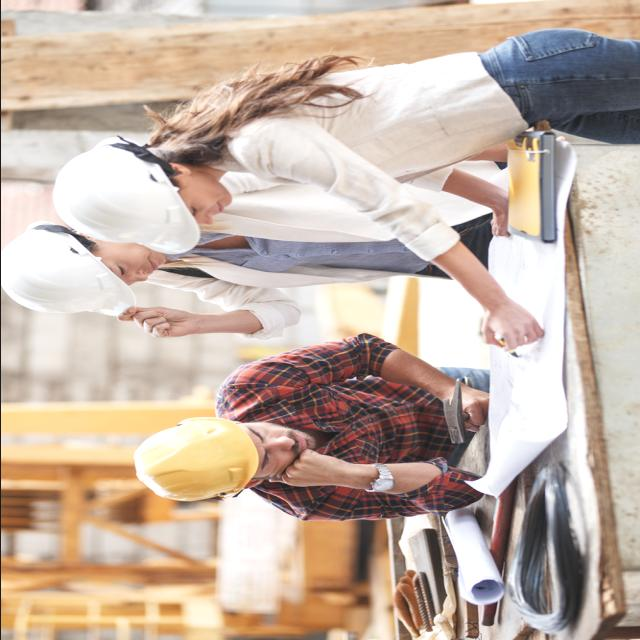Hard Hat: (49, 135, 200, 258), (0, 210, 141, 328), (125, 418, 266, 506)
